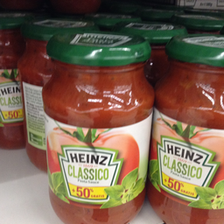tomato_sauce: (41, 28, 157, 224), (147, 34, 224, 223)
